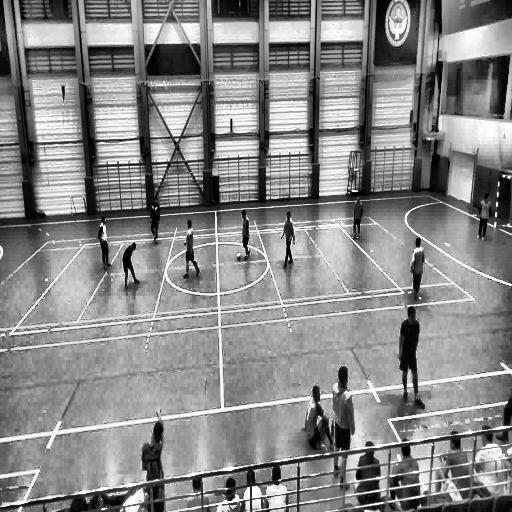ball: (236, 251, 242, 263)
player: (330, 364, 355, 486), (398, 306, 424, 406), (303, 384, 332, 456), (183, 220, 200, 279), (410, 238, 423, 301), (122, 242, 140, 287), (281, 210, 294, 268), (99, 217, 111, 269), (477, 194, 490, 241), (241, 209, 251, 259), (150, 200, 161, 243), (352, 194, 362, 239)
